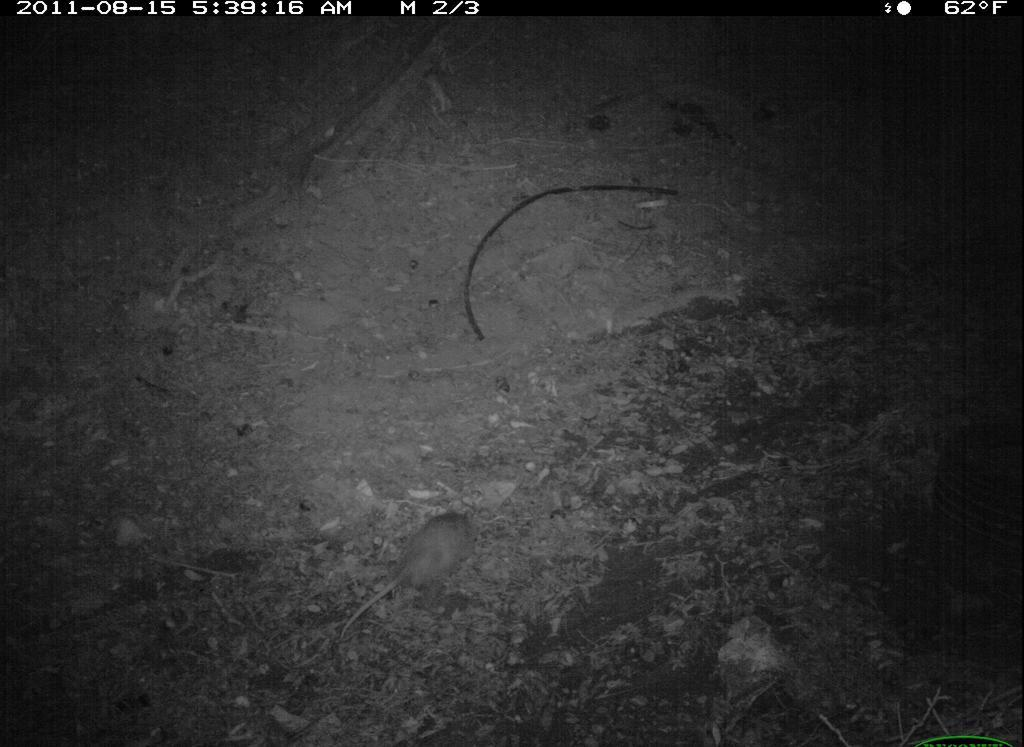opossum: (332, 488, 492, 652)
